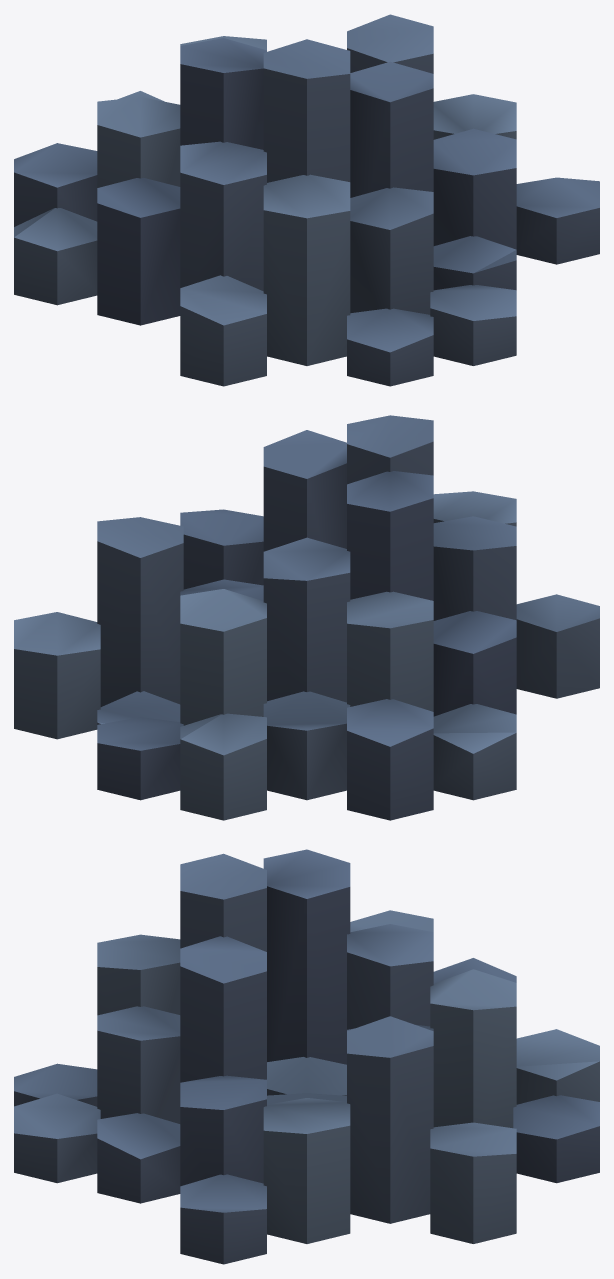
File: basalt_cols.glb
3 views of the same model, one above another, from view 1: azimuth 30°, elevation 25°; view 2: azimuth 150°, elevation 25°; view 3: azimuth 270°, elevation 25° (orthographic).
Visible parts, largest first — view 1: basalt_cols; view 2: basalt_cols; view 3: basalt_cols.
Part boxes in pixels (x1,y1,x2,y2): basalt_cols: [14, 14, 599, 386]; basalt_cols: [14, 415, 599, 820]; basalt_cols: [14, 849, 599, 1264].
Bounding box in the file's own units: 4.71 × 2.21 × 4.76.
